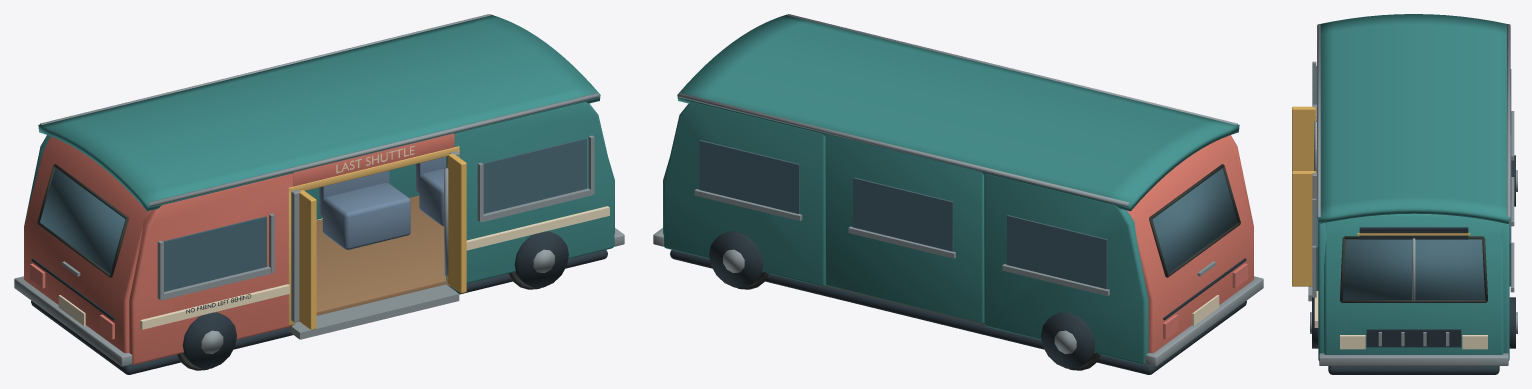
File: AH03_Shuttle.fbx
3 views of the same model, side by side, from view 1: azimuth 30°, elevation 25°; view 2: azimuth 150°, elevation 25°; view 3: azimuth 270°, elevation 25° (orthographic). The views are drawn at different scales.
Parts seen in each view (by area): view 1: AH03_Shuttle_AH03_PaintMint, AH03_Shuttle_AH03_PaintRose, AH03_Shuttle_AH03_AutoGlass, AH03_Shuttle_AH03_Metal, AH03_Shuttle_AH03_Wood, AH03_Shuttle_AH03_Blue, AH03_Shuttle_AH03_Dark, AH03_Shuttle_AH03_Cream, AH03_DoorRight_AH03_PaintGold, AH03_DoorLeft_AH03_PaintGold, AH03_Shuttle_AH03_Gold, AH03_Shuttle_AH03_Rubber (+2 smaller); view 2: AH03_Shuttle_AH03_PaintMint, AH03_Shuttle_AH03_AutoGlass, AH03_Shuttle_AH03_PaintRose, AH03_Shuttle_AH03_Metal, AH03_Shuttle_AH03_Dark, AH03_Shuttle_AH03_Rubber, AH03_Shuttle_AH03_Rose; view 3: AH03_Shuttle_AH03_PaintMint, AH03_Shuttle_AH03_AutoGlass, AH03_Shuttle_AH03_Metal, AH03_Shuttle_AH03_Dark, AH03_DoorRight_AH03_PaintGold, AH03_DoorLeft_AH03_PaintGold, AH03_Shuttle_AH03_Rubber, AH03_Shuttle_AH03_Cream, AH03_Shuttle_AH03_Gold.
Boxes of the visible parts, x1,y1,x2,y2 form: AH03_Shuttle_AH03_PaintMint: (24,14,614,283); AH03_Shuttle_AH03_PaintRose: (24,133,454,364); AH03_Shuttle_AH03_AutoGlass: (40,138,586,291); AH03_Shuttle_AH03_Metal: (14,14,624,366); AH03_Shuttle_AH03_Wood: (316,195,450,315); AH03_Shuttle_AH03_Blue: (319,156,446,249); AH03_Shuttle_AH03_Dark: (31,231,607,374); AH03_Shuttle_AH03_Cream: (58,145,609,329); AH03_DoorRight_AH03_PaintGold: (448,153,466,293); AH03_DoorLeft_AH03_PaintGold: (299,190,316,329); AH03_Shuttle_AH03_Gold: (288,146,459,325); AH03_Shuttle_AH03_Rubber: (37,164,541,370); AH03_Shuttle_AH03_PaintMint: (663,14,1239,364); AH03_Shuttle_AH03_AutoGlass: (699,140,1237,289); AH03_Shuttle_AH03_PaintRose: (1127,135,1253,353); AH03_Shuttle_AH03_Metal: (653,14,1263,366); AH03_Shuttle_AH03_Dark: (670,231,1246,374); AH03_Shuttle_AH03_Rubber: (736,164,1240,370); AH03_Shuttle_AH03_Rose: (1163,263,1247,339); AH03_Shuttle_AH03_PaintMint: (1317,14,1510,360); AH03_Shuttle_AH03_AutoGlass: (1316,66,1511,299); AH03_Shuttle_AH03_Metal: (1308,24,1517,365); AH03_Shuttle_AH03_Dark: (1312,155,1515,374); AH03_DoorRight_AH03_PaintGold: (1292,171,1315,286); AH03_DoorLeft_AH03_PaintGold: (1292,106,1315,170); AH03_Shuttle_AH03_Rubber: (1339,236,1487,302); AH03_Shuttle_AH03_Cream: (1314,109,1487,349); AH03_Shuttle_AH03_Gold: (1357,233,1470,235).
Bounding box in the file's own units: 834 × 306 × 370.
